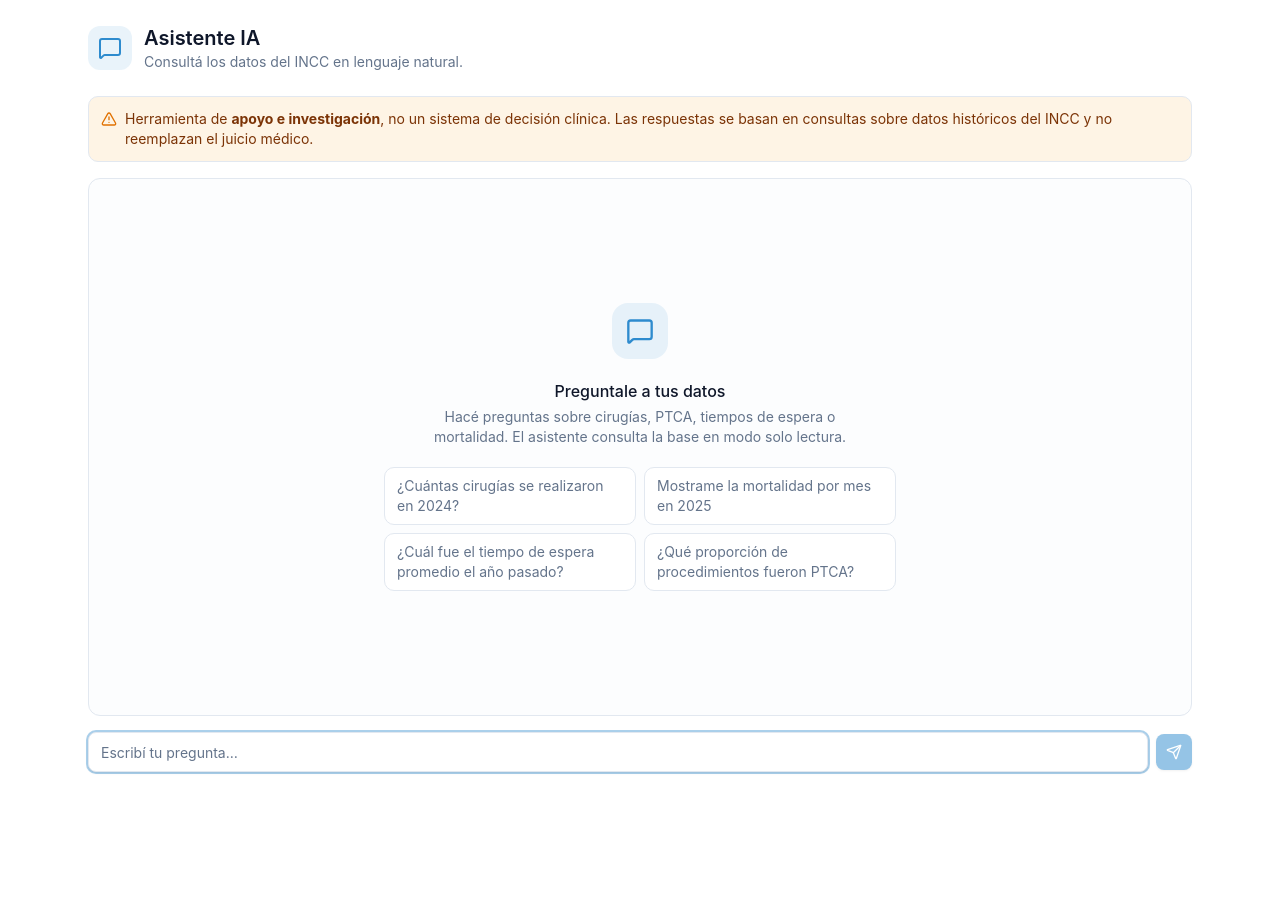
AgentePage › usa sugerencia y maneja error de API
Click the button "¿Cuántas cirugías se realizaron en 2024?".
click(510, 496)  # box [384,467,636,525]
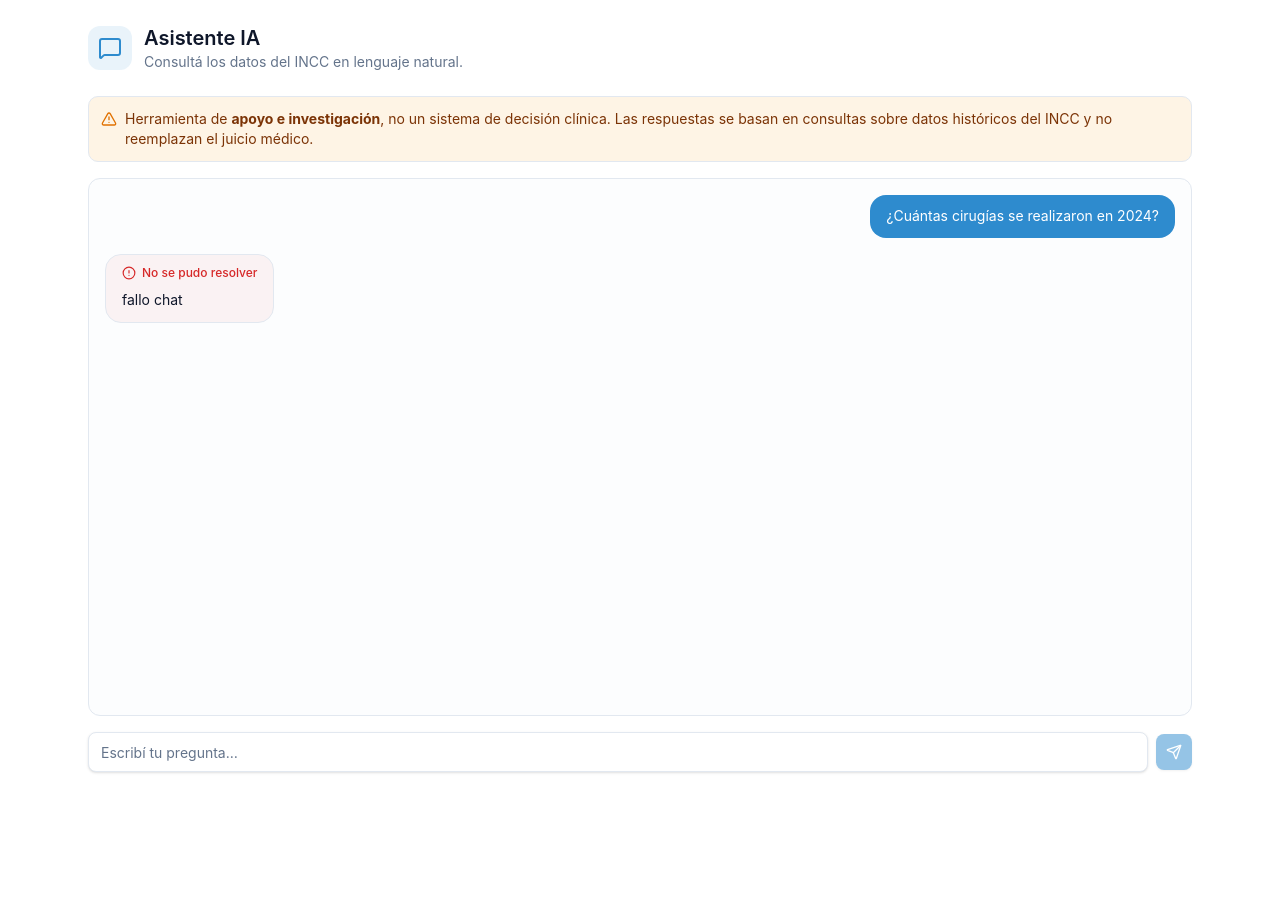
Now the text "fallo chat" is shown, box [122,291,183,308]
Now the text "No se pudo resolver" is shown, box [122,265,257,281]
